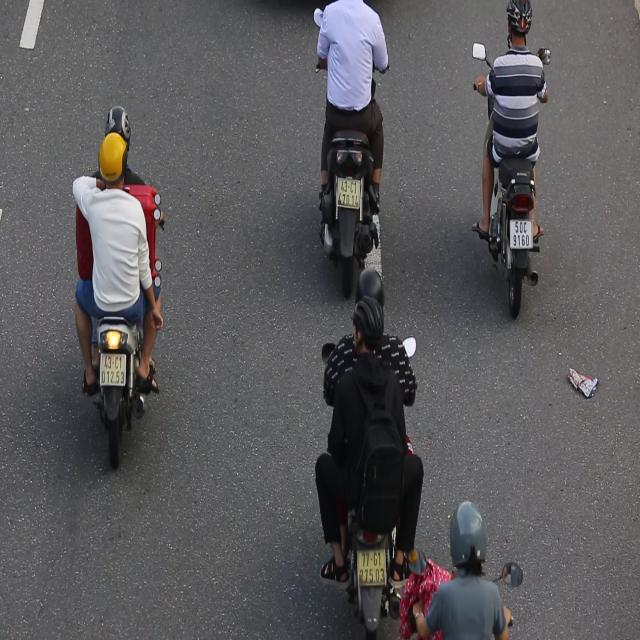motorbike: (314, 272, 422, 635), (70, 105, 166, 479), (464, 0, 554, 323)
